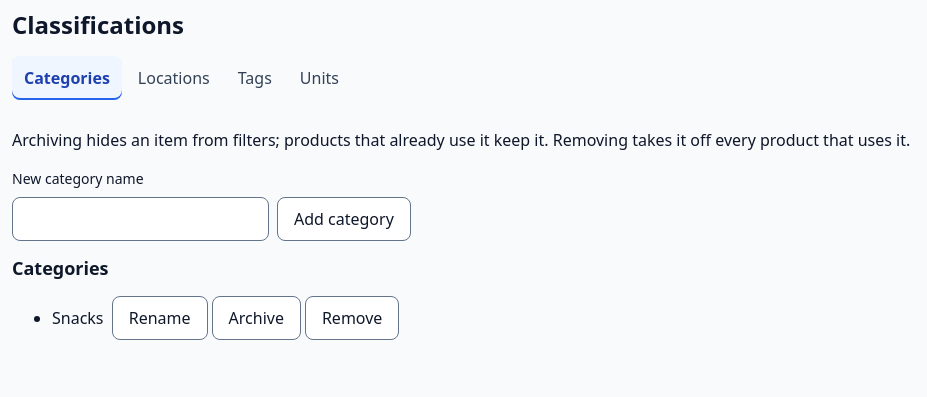
Test case: ClassificationsPage › Categories › rename › edits in place, saves, confirms, and refreshes
The width and height of the screenshot is (927, 397).
Click the button with aria-label "Rename Snacks": (160, 318) [112,296,208,340]
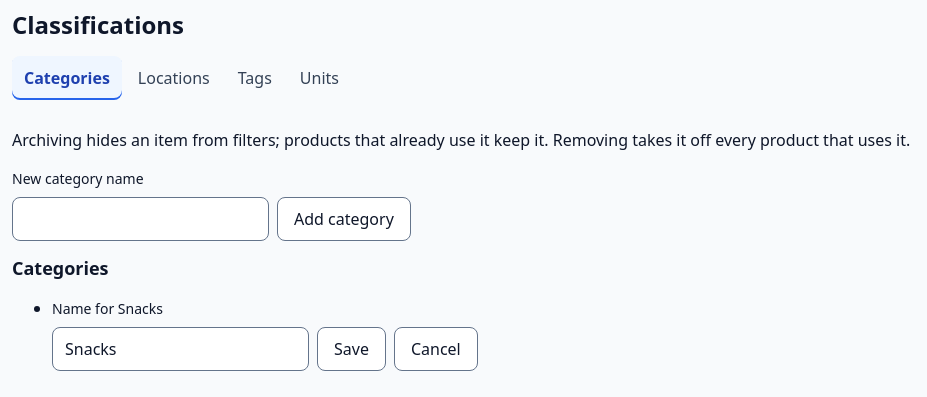
Expected: the field labelled "Name for Snacks" holds "Snacks"
Replace the text in the field labelled "Name for Snacks" with " Treats ": (180, 349) [52,327,309,371]
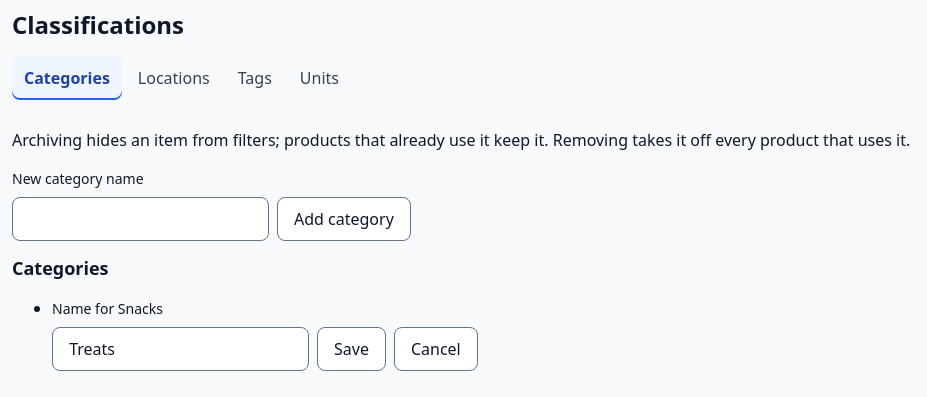
Click the button "Save": (351, 349) [317,327,386,371]
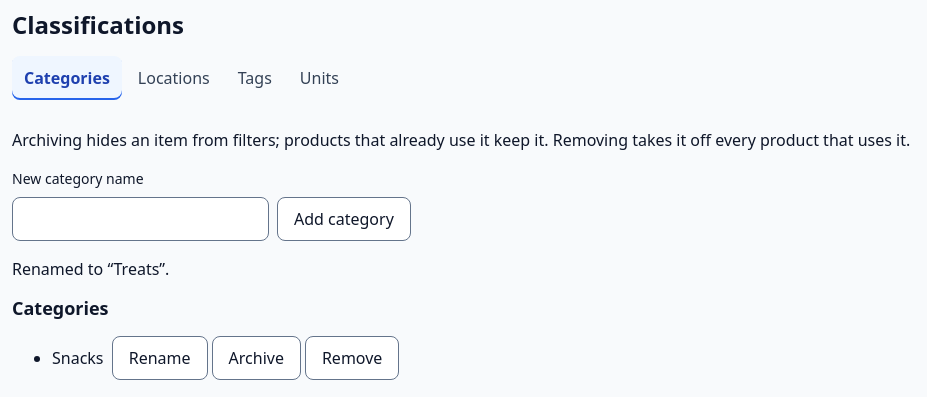
Expected: the text "Renamed to “Treats”." is shown, [12,258,169,280]
Expected: the label labelled "Name for Snacks" is gone
